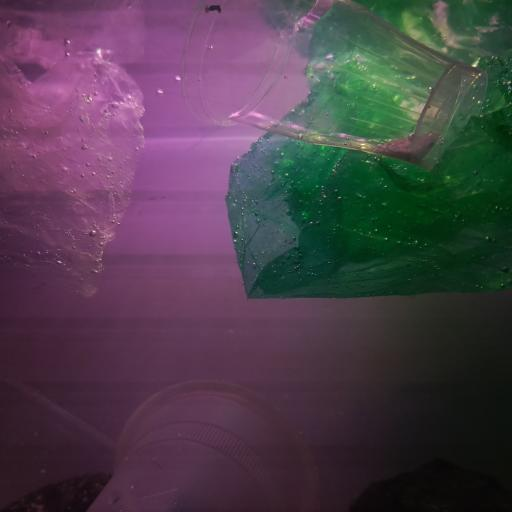plastic_bag: (224, 0, 512, 302), (2, 44, 152, 299)
plastic_cup: (178, 0, 487, 175), (84, 376, 322, 512), (0, 372, 117, 500)
